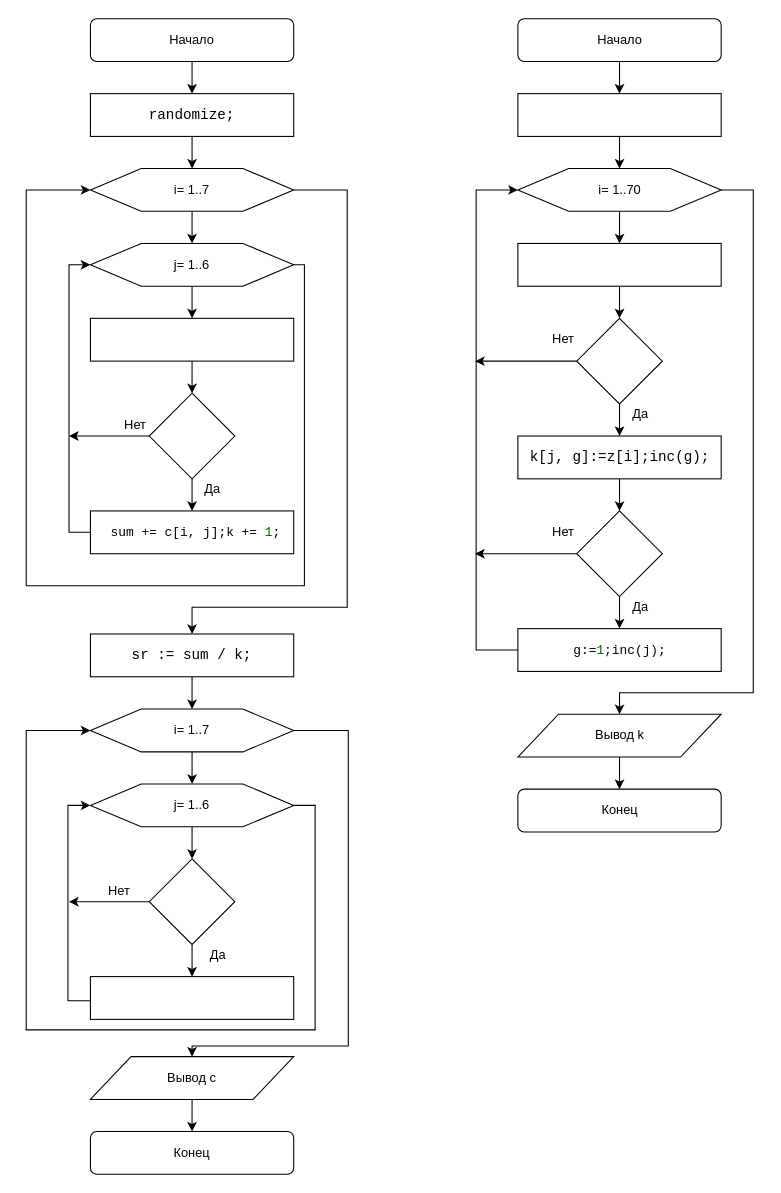
This 781x1193 diagram has some shape labels left out. The centre of each missing label's shape, as x and y in pixels:
"c[i, j] := random( 100 ) - 50 ;" belongs at (x=191, y=339).
"c[i, j] := sr" belongs at (x=191, y=997).
"c[i, j]= 0" belongs at (x=191, y=901).
"c[i,j]< 0" belongs at (x=191, y=435).
"g> 10" belongs at (x=619, y=553).
"randomize; j:= 1 ;g:= 1 ;" belongs at (x=619, y=114).
"z[i] < 0" belongs at (x=619, y=360).
"z[i]:=random( 100 )- 50 ;" belongs at (x=619, y=264).
